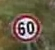limite 60: (11, 13, 41, 42)
